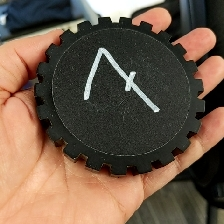gear: (32, 14, 207, 178)
